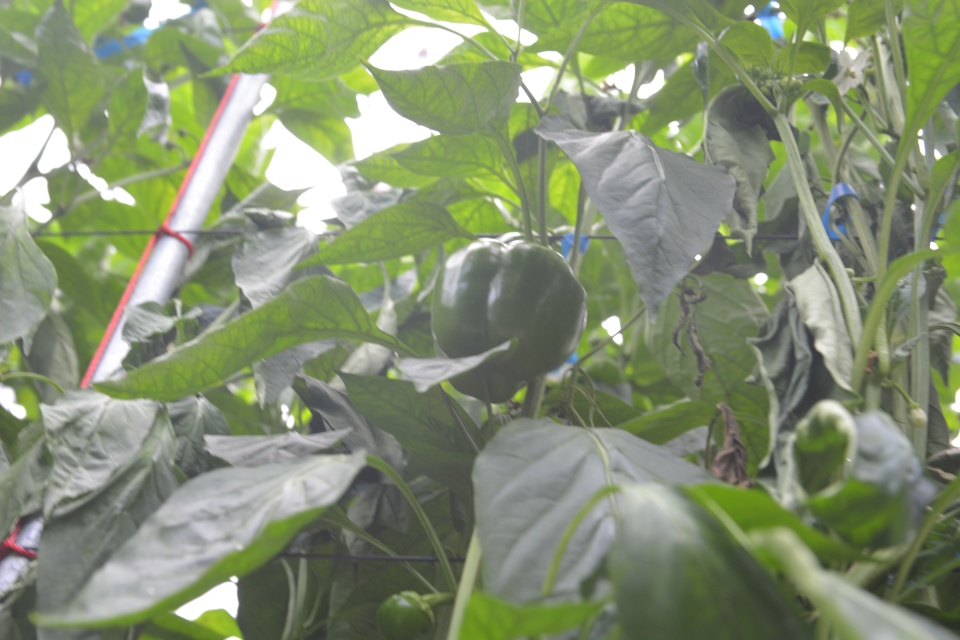fruit: (428, 228, 589, 406)
immature: (375, 585, 438, 640)
